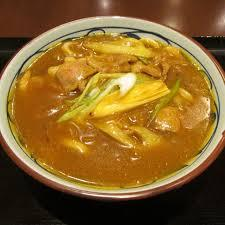curry: (1, 12, 225, 216)
